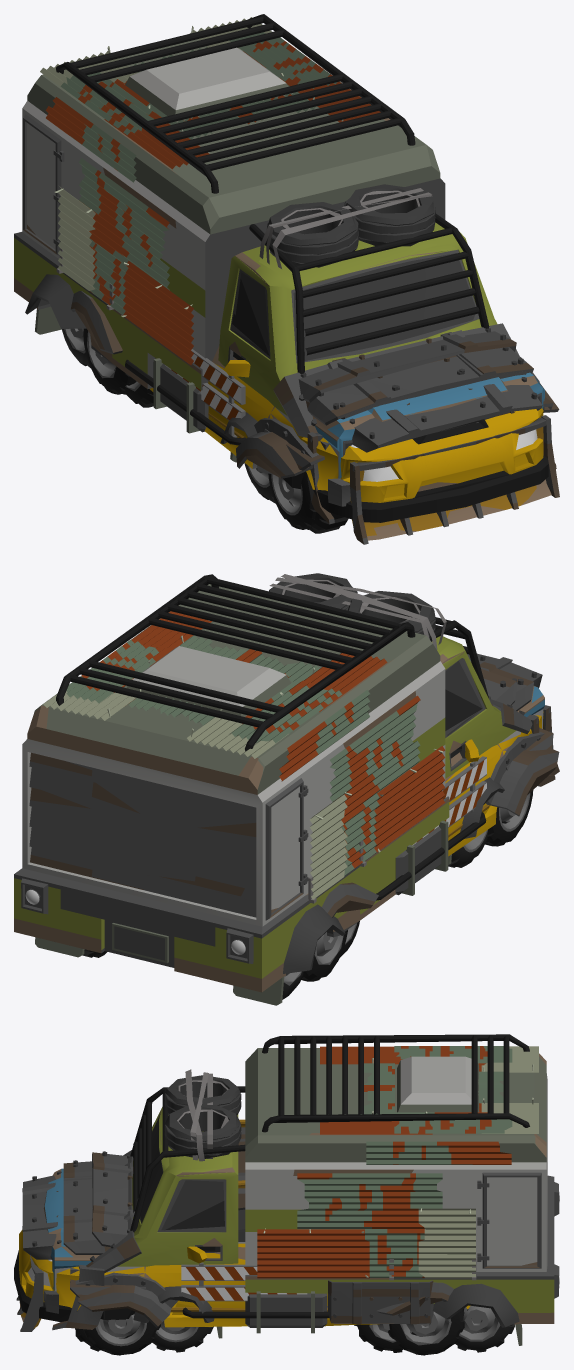
The model's file is vehicles.glb.
The picture shows the model from 3 angles, top to bottom: view 1: azimuth 30°, elevation 25°; view 2: azimuth 150°, elevation 25°; view 3: azimuth 270°, elevation 25°; orthographic projection. The views are drawn at different scales.
Parts seen in each view (by area): view 1: body (×6), wheel-fr, wheels-back; view 2: body (×5), wheel-fr (×2), wheels-back; view 3: body (×6), wheels-back (×3), wheel-fl (×2).
Part boxes in pixels (<box>): body (×6): <box>14,14,559,544</box>; wheel-fr: <box>268,471,316,529</box>; wheels-back: <box>83,328,136,394</box>; body (×5): <box>14,573,559,1005</box>; wheel-fr (×2): <box>448,790,533,867</box>; wheels-back: <box>301,930,347,981</box>; body (×6): <box>14,1034,559,1345</box>; wheels-back (×3): <box>354,1306,514,1355</box>; wheel-fl (×2): <box>83,1314,213,1355</box>.
Bounding box in the file's own units: 2.98 × 2.91 × 6.
